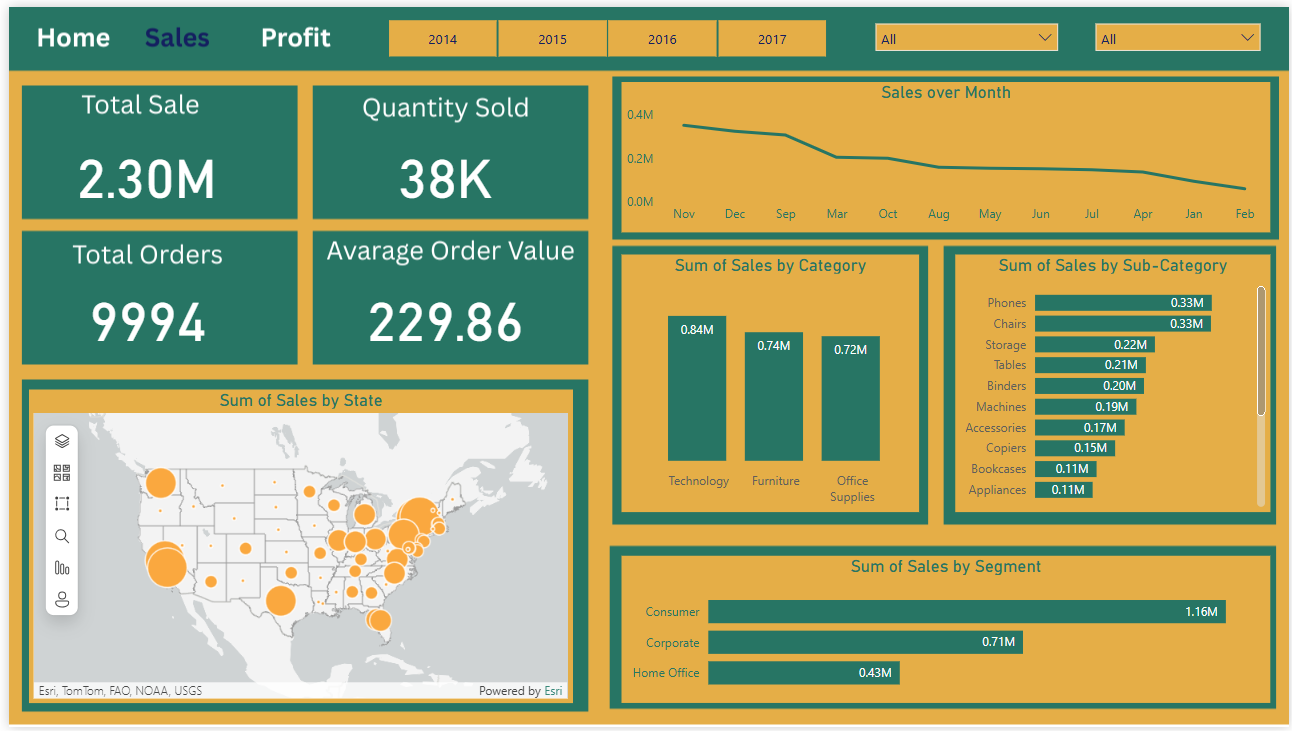

This screenshot's page, from the dashboard's own definition file:
{"tool":"powerbi","page":{"name":"Sales","canvas":[1280,720],"ordinal":1},"visuals":[{"type":"card","fields":{"Values":["Sum(Sample.Sales)"]},"box":[30.2,122.1,215.1,84.9],"z":0},{"type":"card","fields":{"Values":["Sum(Sample.Quantity)"]},"box":[329.1,122.1,215.1,84.9],"z":1000},{"type":"card","fields":{"Values":["Sample.Total orders"]},"box":[31.4,266.3,215.1,84.9],"z":2000},{"type":"card","fields":{"Values":["Sample.AVG Order Value"]},"box":[329.1,266.3,215.1,84.9],"z":3000},{"type":"lineChart","title":" Sales over Month","fields":{"Y":["Sum(Sample.Sales)"],"Category":["year table.Month"]},"box":[612.8,75.6,648.8,150],"z":4000},{"type":"esriVisual","fields":{"Location":["Sample.State"],"Size":["Sum(Sample.Sales)"]},"box":[20,382.5,543.8,313.8],"z":5000},{"type":"clusteredBarChart","fields":{"Category":["Sample.Sub-Category"],"Y":["Sum(Sample.Sales)"]},"box":[946.2,247.5,315,257.5],"z":5001},{"type":"columnChart","fields":{"Category":["Sample.Category"],"Y":["Sum(Sample.Sales)"]},"box":[612.5,247.5,297.5,257.5],"z":5002},{"type":"clusteredBarChart","fields":{"Category":["Sample.Segment"],"Y":["Sum(Sample.Sales)"]},"box":[612.5,548.8,648.8,147.5],"z":5003},{"type":"slicer","fields":{"Values":["Sample.Region"]},"box":[856.2,6.2,202.5,66.2],"z":5004},{"type":"slicer","fields":{"Values":["Sample.Category"]},"box":[1076.2,6.2,185,37.5],"z":5005},{"type":"slicer","fields":{"Values":["year table.Year"]},"box":[353.8,6.2,487.5,50],"z":5006},{"type":"actionButton","box":[20,11.2,100,40],"z":5007},{"type":"actionButton","box":[242.5,6.2,100,50],"z":5008}]}

Visuals, with their boxes in screenshot pixels (x1, y1, x2, y2), scaled from the page's 1280x720 canvas onto the 1292x731 screenshot:
card - Sum(Sample.Sales): (30, 124, 248, 210)
card - Sum(Sample.Quantity): (332, 124, 549, 210)
card - Sample.Total orders: (32, 270, 249, 357)
card - Sample.AVG Order Value: (332, 270, 549, 357)
" Sales over Month" lineChart: (619, 77, 1273, 229)
esriVisual - Sample.State x Sum(Sample.Sales): (20, 388, 569, 707)
clusteredBarChart - Sample.Sub-Category x Sum(Sample.Sales): (955, 251, 1273, 513)
columnChart - Sample.Category x Sum(Sample.Sales): (618, 251, 919, 513)
clusteredBarChart - Sample.Segment x Sum(Sample.Sales): (618, 557, 1273, 707)
slicer - Sample.Region: (864, 6, 1069, 74)
slicer - Sample.Category: (1086, 6, 1273, 44)
slicer - year table.Year: (357, 6, 849, 57)
actionButton: (20, 11, 121, 52)
actionButton: (245, 6, 346, 57)
